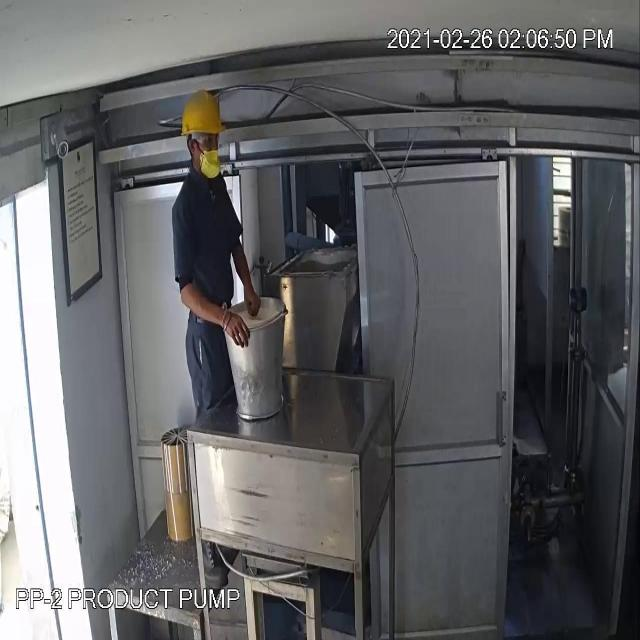hat: (177, 86, 233, 145)
